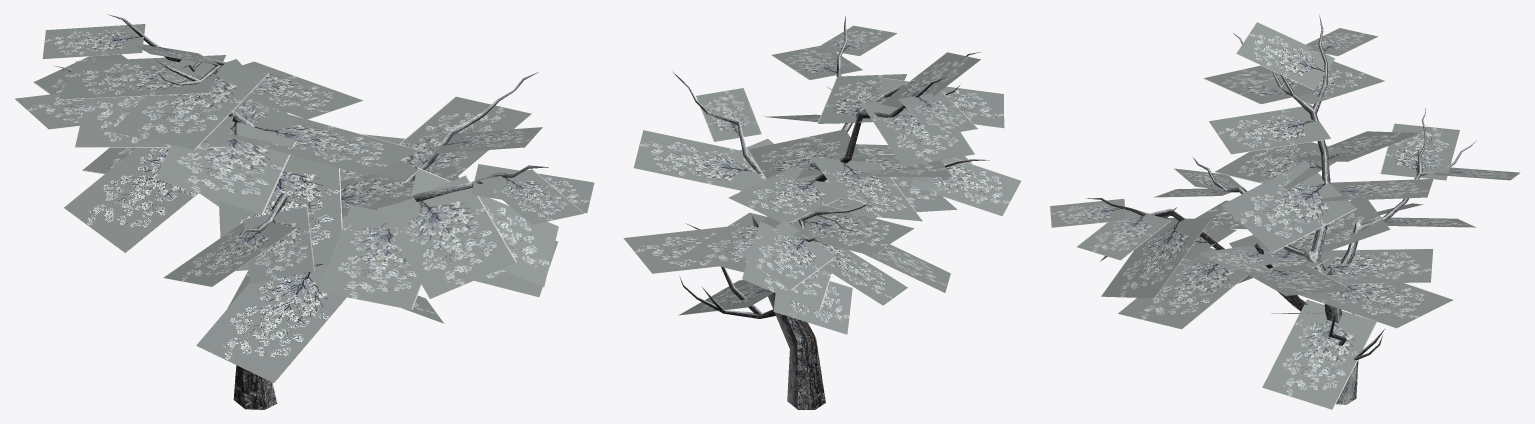
File: S_Tree_White017.FBX
3 views of the same model, side by side, from view 1: azimuth 30°, elevation 25°; view 2: azimuth 150°, elevation 25°; view 3: azimuth 270°, elevation 25° (orthographic). The views are drawn at different scales.
Visible parts, largest first — view 1: S_Tree_White017; view 2: S_Tree_White017; view 3: S_Tree_White017.
Part boxes in pixels (x1=…): S_Tree_White017: x1=15, y1=14, x2=594, y2=409; S_Tree_White017: x1=623, y1=16, x2=1021, y2=409; S_Tree_White017: x1=1050, y1=15, x2=1520, y2=409.
Size of the model in its own units: 652 by 787 by 601.
